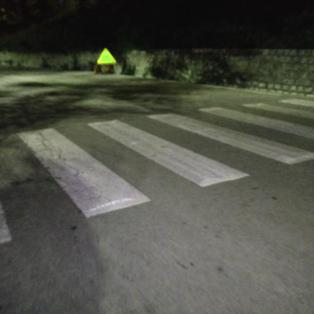Paso de Cebra: (84, 106, 313, 202)
